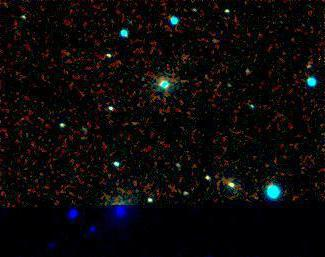star: (128, 60, 158, 90)
